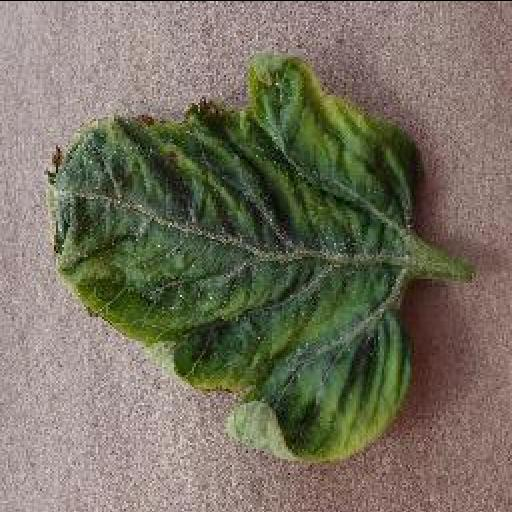disease_tomato: (42, 54, 420, 464)
